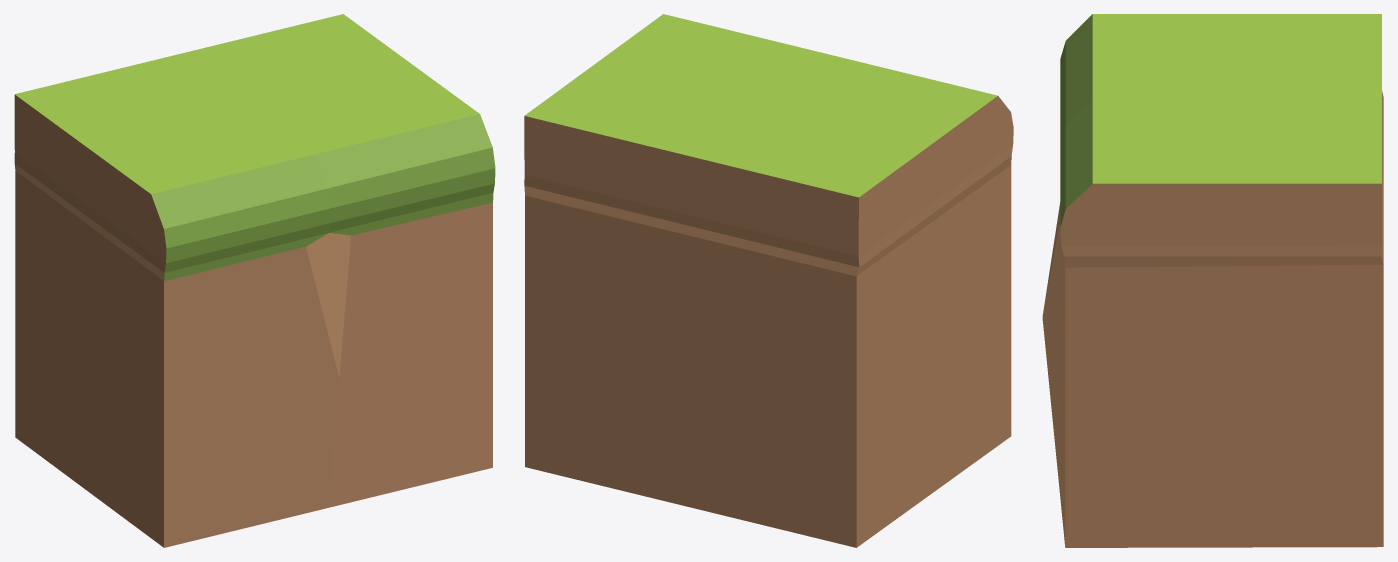
File: side_part.fbx
3 views of the same model, side by side, from view 1: azimuth 30°, elevation 25°; view 2: azimuth 150°, elevation 25°; view 3: azimuth 270°, elevation 25° (orthographic). The views are drawn at different scales.
Parts seen in each view (by area): view 1: Cube.117; view 2: Cube.117; view 3: Cube.117.
Boxes of the visible parts, left/top/right/bottom form: Cube.117: left=14, top=14, right=495, bottom=547; Cube.117: left=524, top=14, right=1013, bottom=547; Cube.117: left=1042, top=14, right=1383, bottom=547.
Bounding box in the file's own units: 1 × 0.8487 × 1.
